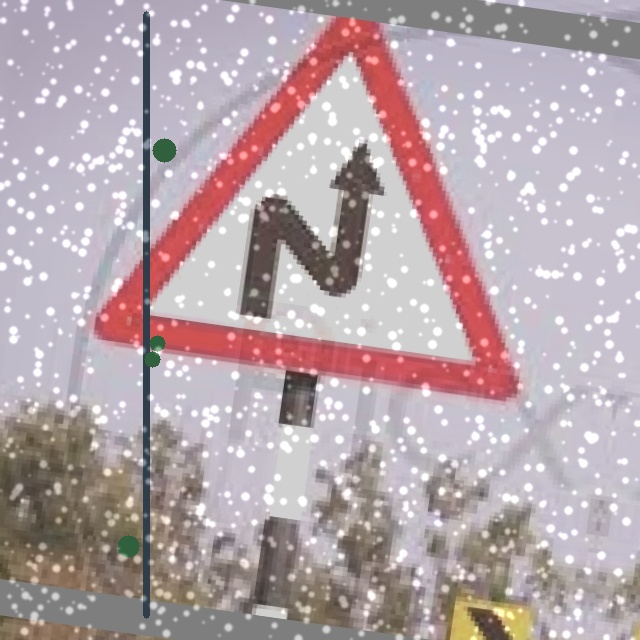Right_Reverse_Bend: (109, 16, 557, 402)
